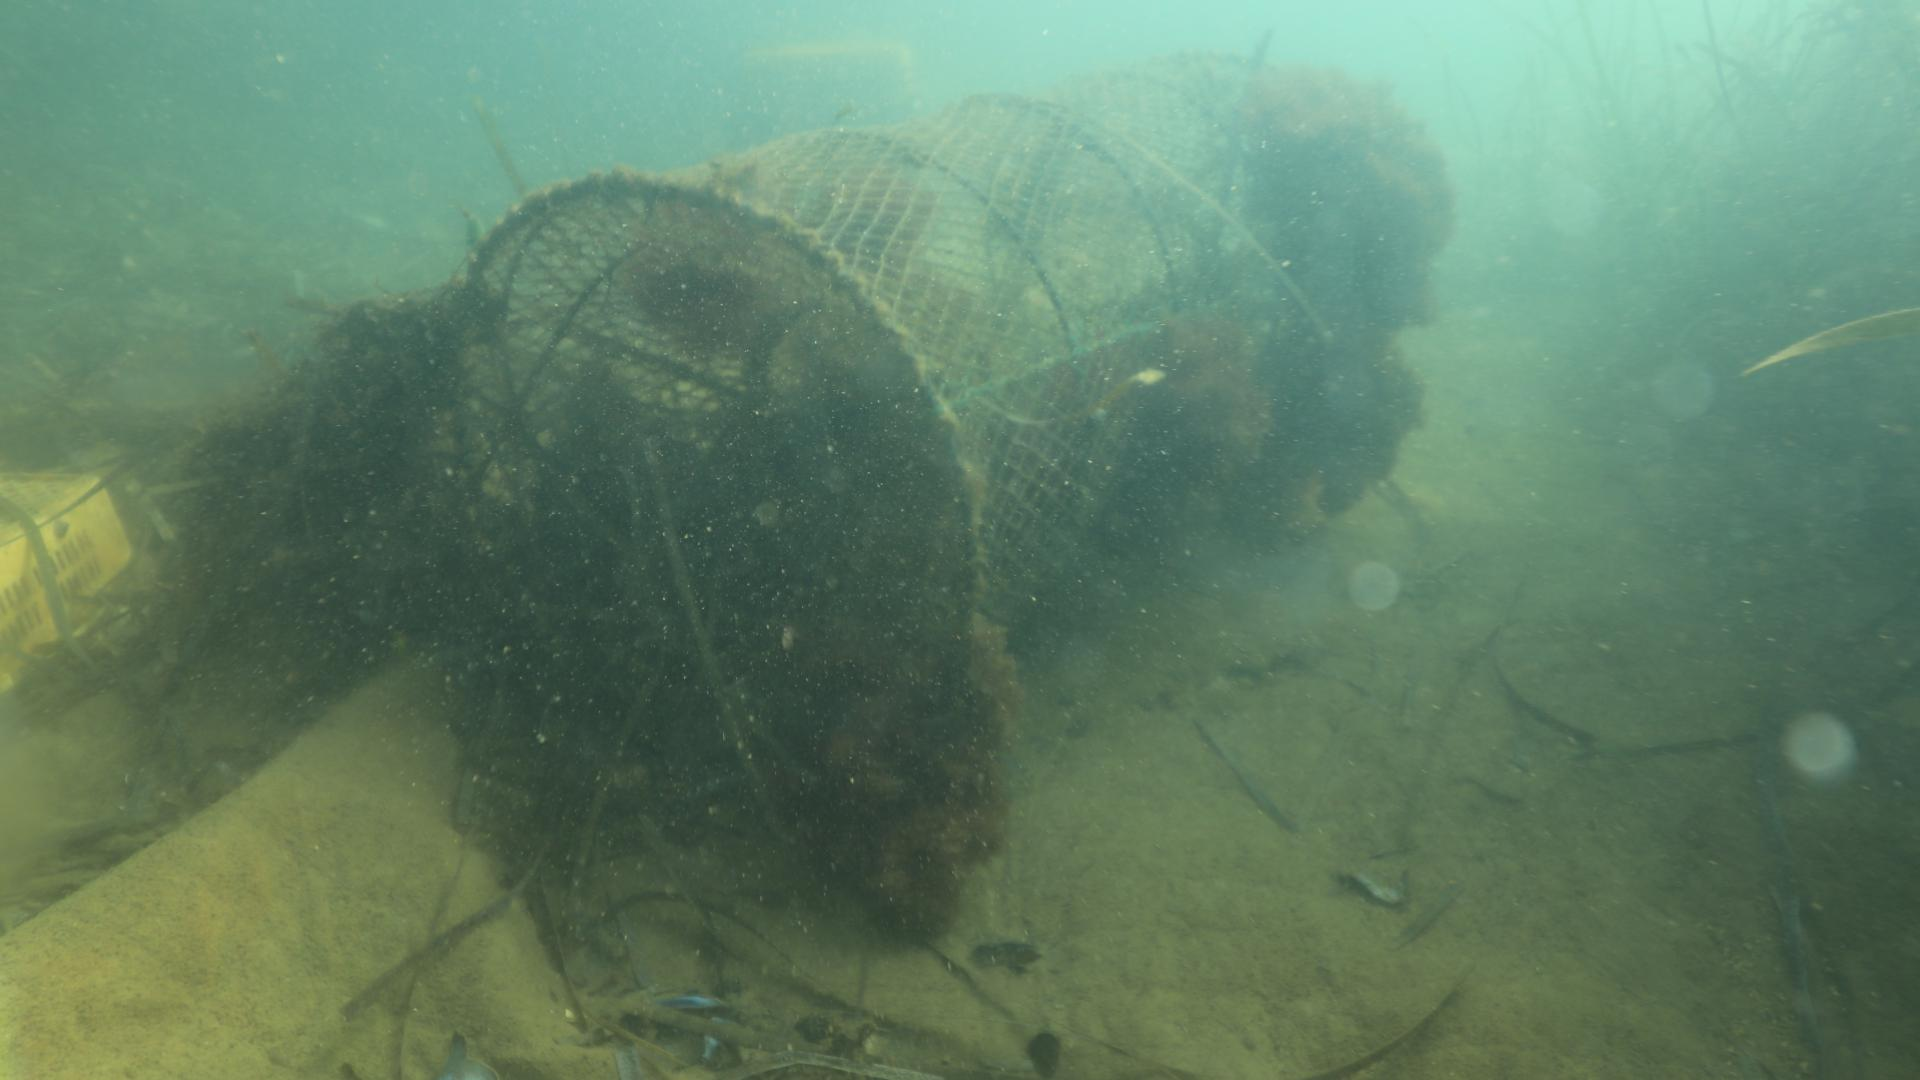spring fish trap: (430, 57, 1367, 833)
